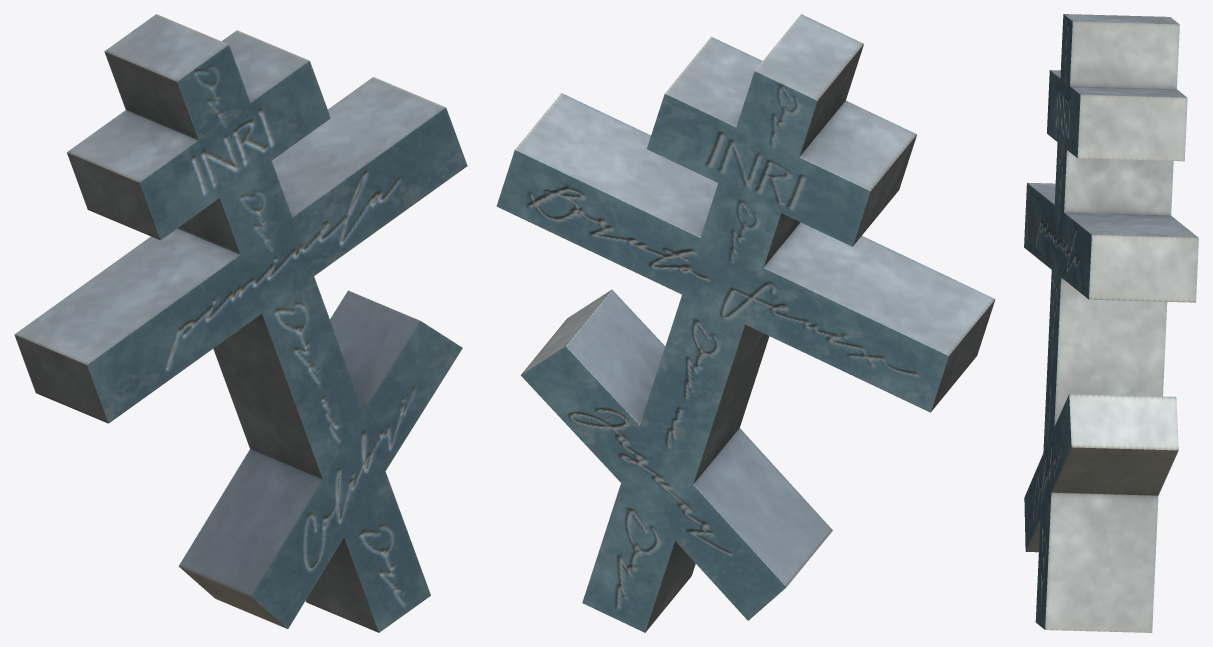
3 views of the same model, side by side, from view 1: azimuth 30°, elevation 25°; view 2: azimuth 150°, elevation 25°; view 3: azimuth 270°, elevation 25° (orthographic). The views are drawn at different scales.
Visible parts, largest first — view 1: Cruz_Orto_Cube.011; view 2: Cruz_Orto_Cube.011; view 3: Cruz_Orto_Cube.011.
Part boxes in pixels (x1,y1,x2,y2): Cruz_Orto_Cube.011: (14, 14, 467, 632); Cruz_Orto_Cube.011: (496, 14, 995, 632); Cruz_Orto_Cube.011: (1024, 14, 1198, 632).
Size of the model in its own units: 1.96 by 2.69 by 0.7726.
